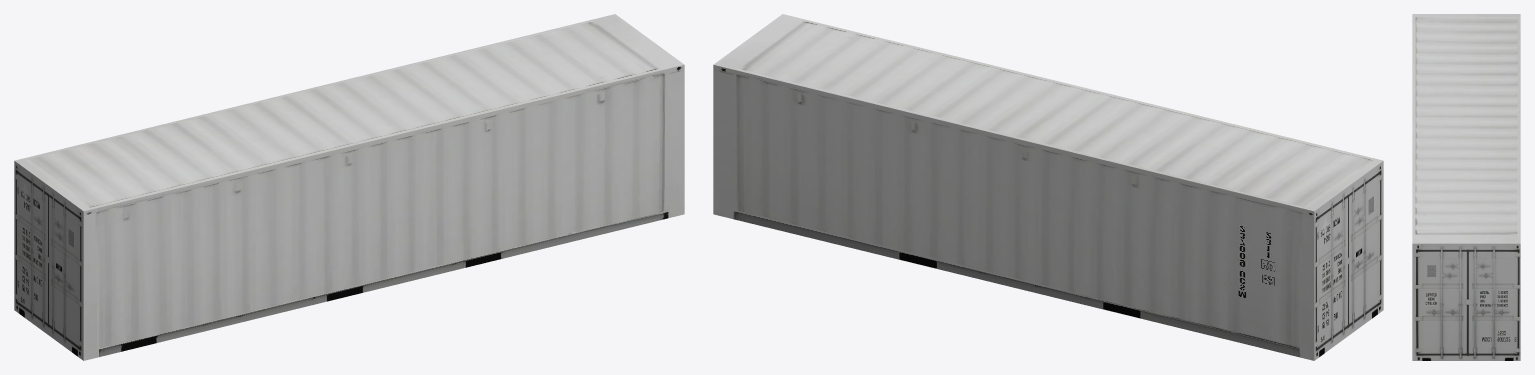
File: 40ft_96_container.glb
3 renders of one model, left to right at view 1: azimuth 30°, elevation 25°; view 2: azimuth 150°, elevation 25°; view 3: azimuth 270°, elevation 25°, orthographic. The views are drawn at different scales.
Parts seen in each view (by area): view 1: containerobjcleanermaterialmergergles; view 2: containerobjcleanermaterialmergergles; view 3: containerobjcleanermaterialmergergles.
Boxes of the visible parts, x1,y1,x2,y2 form: containerobjcleanermaterialmergergles: (14, 14, 684, 360); containerobjcleanermaterialmergergles: (713, 14, 1383, 360); containerobjcleanermaterialmergergles: (1412, 14, 1520, 360).
Size of the model in its own units: 12.2 by 2.9 by 2.44.
Materials: 1 (1 with a texture image).
